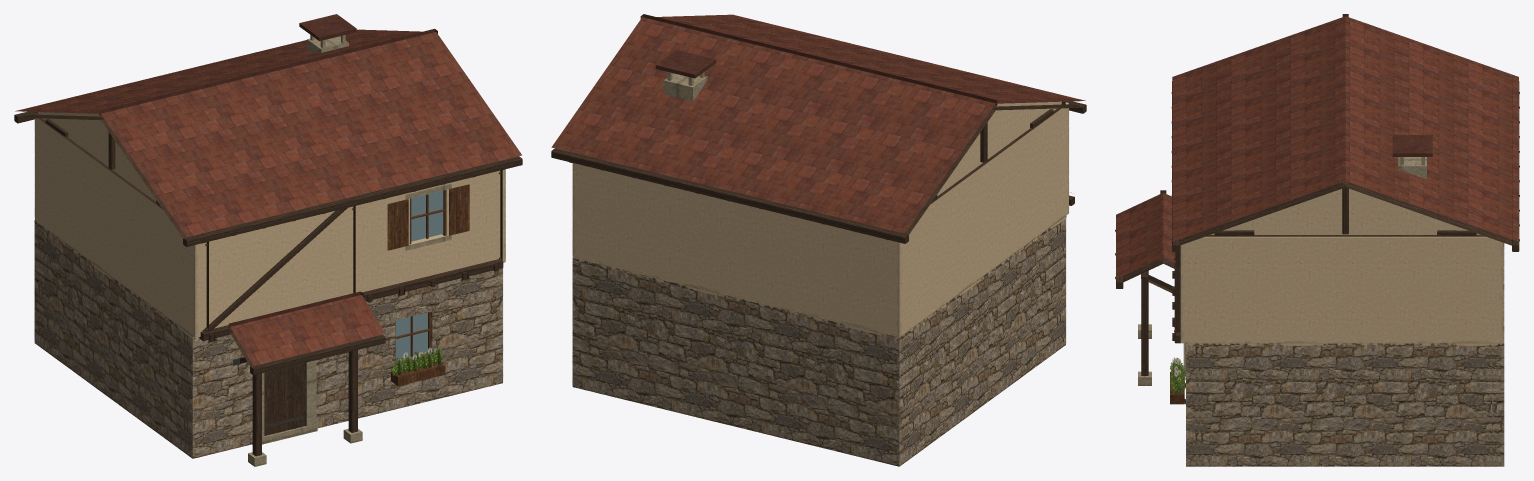
File: B12_vivienda.gltf
The picture shows the model from 3 angles, left to right: view 1: azimuth 30°, elevation 25°; view 2: azimuth 150°, elevation 25°; view 3: azimuth 270°, elevation 25°; orthographic projection. The views are drawn at different scales.
Parts seen in each view (by area): view 1: AUR034_B12_clay_tiles, AUR034_B12_lower_masonry, B12_runtime_static_113, B12_runtime_static_000, AUR034_B12_porch_clay_tiles, B12_runtime_static_091, B12_runtime_static_076, AUR034_B12_entry_leaf0, B12_runtime_static_093, AUR034_B12_window1_glazing, AUR034_B12_window0_glazing, AUR034_B12_window1_shutter-1 (+2 smaller); view 2: AUR034_B12_lower_masonry, AUR034_B12_clay_tiles, B12_runtime_static_113, B12_runtime_static_000, B12_runtime_static_091, B12_plaster_stone_joint_wear, B12_runtime_static_076; view 3: AUR034_B12_clay_tiles, B12_runtime_static_113, AUR034_B12_lower_masonry, B12_runtime_static_000, AUR034_B12_porch_clay_tiles, B12_runtime_static_091, B12_runtime_static_076, B12_plaster_stone_joint_wear, B12_herbs_0.
Part boxes in pixels (box(x1,y1,x2,y2)): AUR034_B12_clay_tiles: box(15, 29, 521, 236); AUR034_B12_lower_masonry: box(34, 220, 502, 458); B12_runtime_static_113: box(35, 112, 505, 337); B12_runtime_static_000: box(14, 111, 522, 456); AUR034_B12_porch_clay_tiles: box(228, 295, 385, 365); B12_runtime_static_091: box(99, 14, 437, 330); B12_runtime_static_076: box(248, 35, 451, 466); AUR034_B12_entry_leaf0: box(264, 362, 305, 435); B12_runtime_static_093: box(205, 172, 501, 433); AUR034_B12_window1_glazing: box(411, 190, 443, 241); AUR034_B12_window0_glazing: box(395, 312, 427, 359); AUR034_B12_window1_shutter-1: box(387, 199, 408, 250); AUR034_B12_lower_masonry: box(572, 216, 1065, 466); AUR034_B12_clay_tiles: box(551, 14, 1085, 233); B12_runtime_static_113: box(572, 101, 1068, 337); B12_runtime_static_000: box(551, 101, 1086, 243); B12_runtime_static_091: box(640, 14, 997, 107); B12_plaster_stone_joint_wear: box(578, 213, 1067, 339); B12_runtime_static_076: box(664, 72, 707, 101); AUR034_B12_clay_tiles: box(1172, 16, 1518, 241); B12_runtime_static_113: box(1180, 188, 1503, 343); AUR034_B12_lower_masonry: box(1186, 243, 1504, 466); B12_runtime_static_000: box(1115, 81, 1519, 404); AUR034_B12_porch_clay_tiles: box(1116, 192, 1175, 279); B12_runtime_static_091: box(1160, 14, 1432, 260); B12_runtime_static_076: box(1138, 157, 1426, 385); B12_plaster_stone_joint_wear: box(1185, 341, 1502, 346); B12_herbs_0: box(1170, 357, 1185, 393).
Size of the model in its own units: 8.96 by 7.49 by 9.29.
14 materials, 13 textured.
